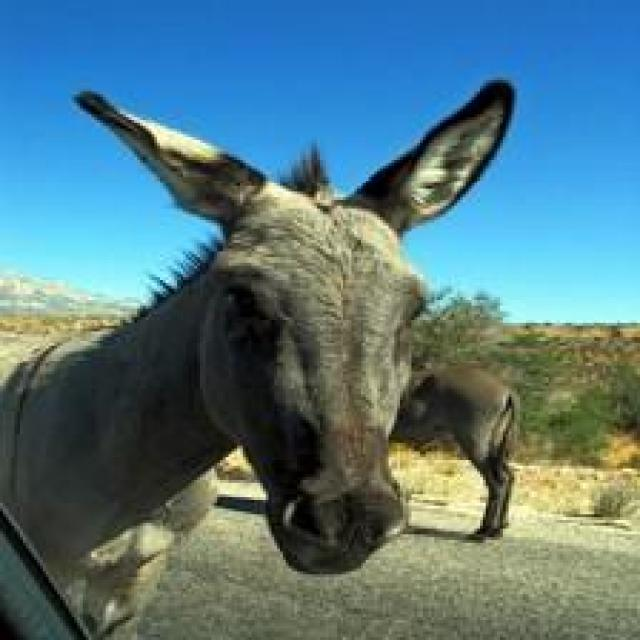Donkey: (0, 77, 514, 637), (389, 360, 520, 537)
